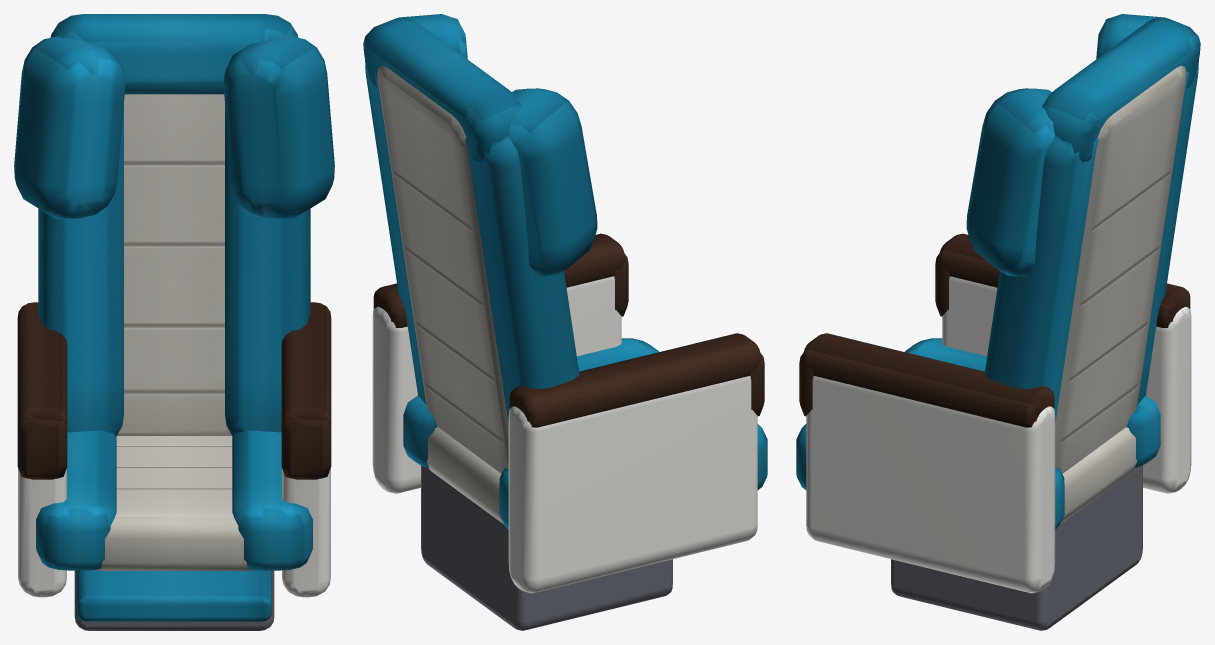
The model's file is seat_eksekutifDualTone.glb.
3 views of the same model, side by side, from view 1: azimuth 30°, elevation 25°; view 2: azimuth 150°, elevation 25°; view 3: azimuth 270°, elevation 25° (orthographic). The views are drawn at different scales.
Visible parts, largest first — view 1: seat_eksekutifDualTone; view 2: seat_eksekutifDualTone; view 3: seat_eksekutifDualTone.
Part boxes in pixels (x1,y1,x2,y2): seat_eksekutifDualTone: (14, 14, 334, 630); seat_eksekutifDualTone: (363, 14, 767, 630); seat_eksekutifDualTone: (796, 14, 1200, 630).
Size of the model in its own units: 0.776 by 1.15 by 0.7668.
7 materials, 3 textured.
